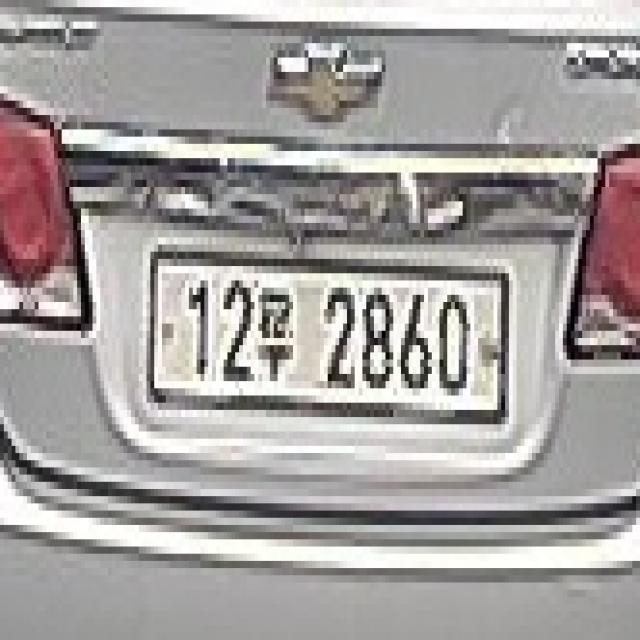0: (432, 288, 478, 424)
1: (181, 266, 216, 410)
2: (216, 273, 258, 403), (320, 280, 362, 410)
6: (393, 281, 440, 417)
8: (359, 288, 397, 402)
license_plate: (142, 237, 512, 446)
lu: (254, 288, 304, 402)
